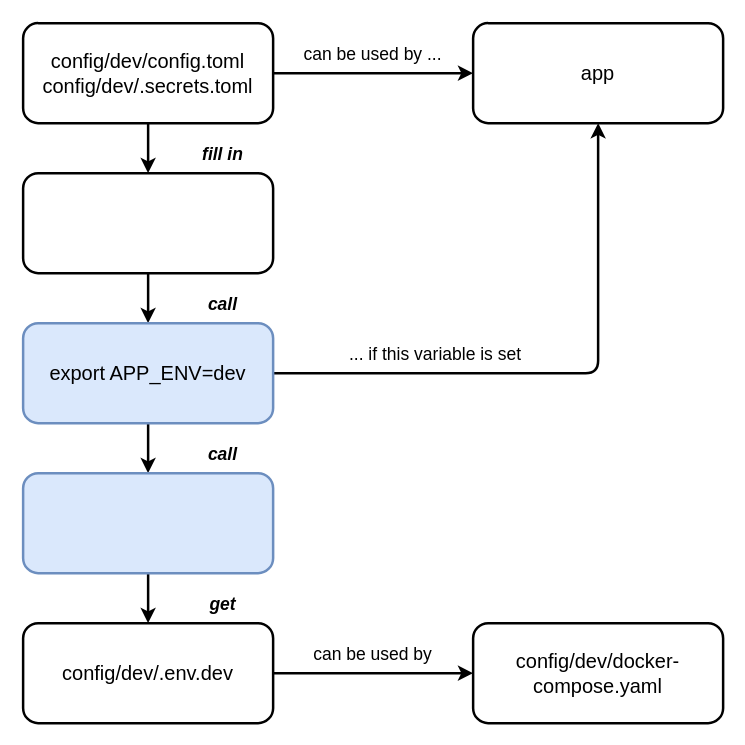
This 745x745 diagram has some shape labels left out. The centre of each missing label's shape, as x and y in pixels:
"config/dev/export.toml" goes at point 147,222.
"make dotenv" goes at point 147,522.
